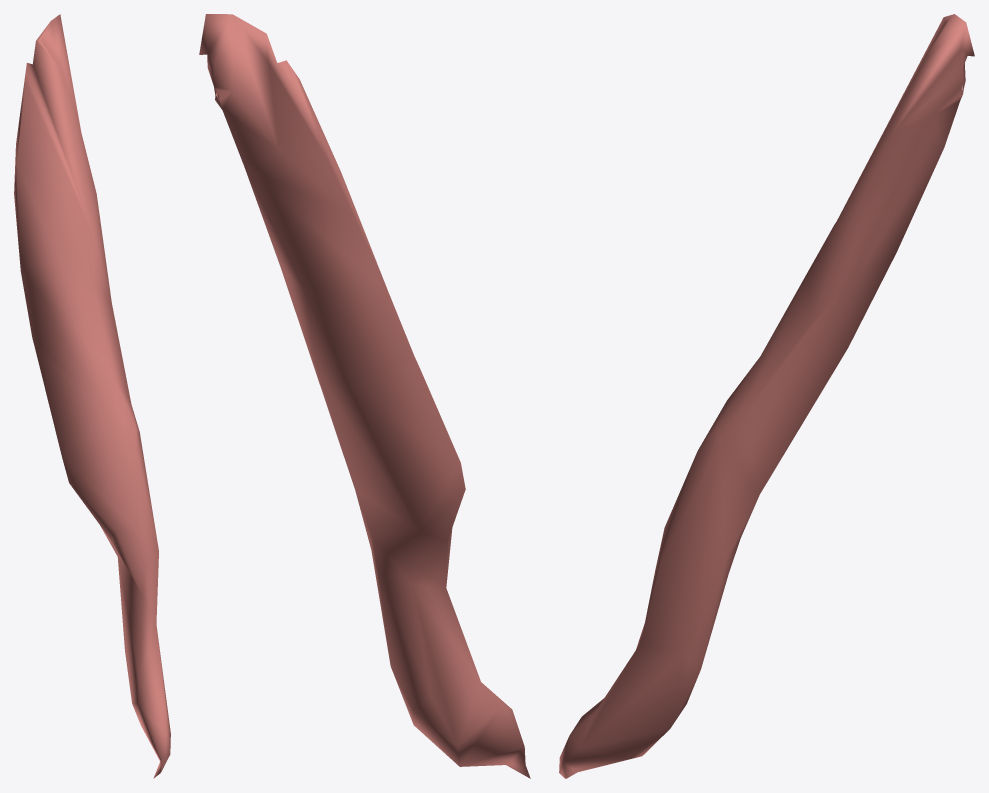
3 renders of one model, left to right at view 1: azimuth 30°, elevation 25°; view 2: azimuth 150°, elevation 25°; view 3: azimuth 270°, elevation 25°, orthographic. The views are drawn at different scales.
Parts seen in each view (by area): view 1: ZA_7f8fa7250da4d8dc; view 2: ZA_7f8fa7250da4d8dc; view 3: ZA_7f8fa7250da4d8dc.
Part boxes in pixels (x1,y1,x2,y2): ZA_7f8fa7250da4d8dc: [14, 14, 170, 778]; ZA_7f8fa7250da4d8dc: [199, 14, 530, 778]; ZA_7f8fa7250da4d8dc: [559, 14, 974, 778].
Bounding box in the file's own units: 0.00566 × 0.0382 × 0.0181.
